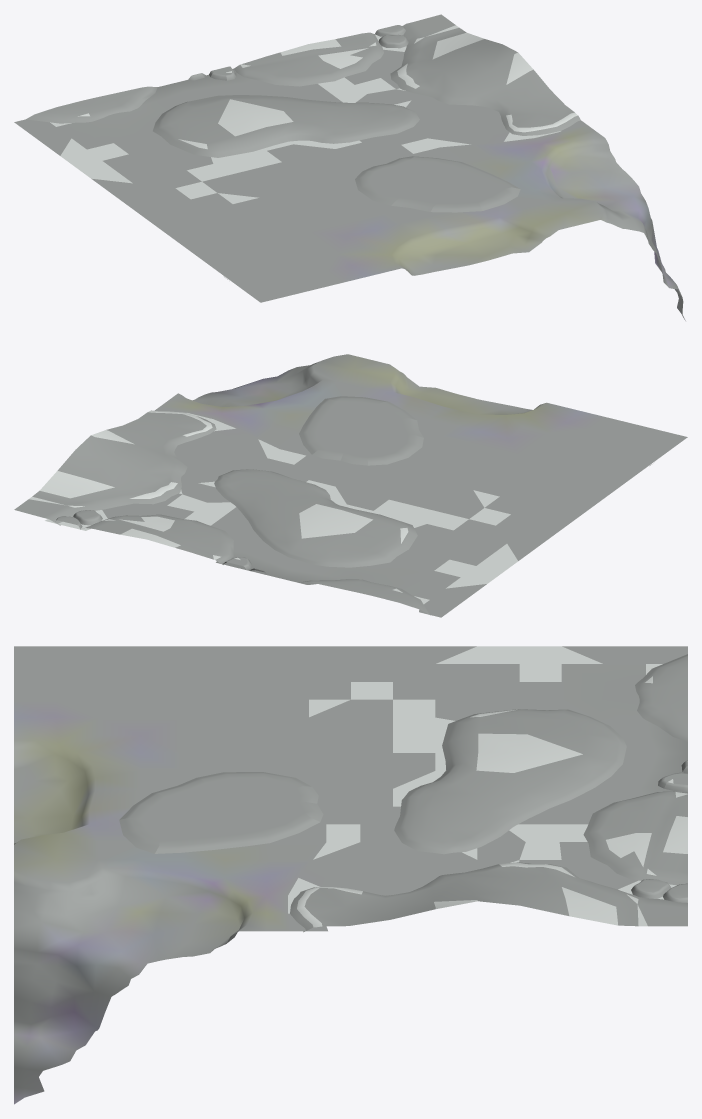
3 views of the same model, one above another, from view 1: azimuth 30°, elevation 25°; view 2: azimuth 150°, elevation 25°; view 3: azimuth 270°, elevation 25° (orthographic). The views are drawn at different scales.
Parts seen in each view (by area): view 1: G:\FFXIV-MapTools\exports\y6f2\bg\ex5\02_ykt_y6\fld\y6f2\bgp (×11); view 2: G:\FFXIV-MapTools\exports\y6f2\bg\ex5\02_ykt_y6\fld\y6f2\bgp (×11); view 3: G:\FFXIV-MapTools\exports\y6f2\bg\ex5\02_ykt_y6\fld\y6f2\bgp (×12).
Boxes of the visible parts, <box> form: G:\FFXIV-MapTools\exports\y6f2\bg\ex5\02_ykt_y6\fld\y6f2\bgp (×11): <box>14,14,685,320</box>; G:\FFXIV-MapTools\exports\y6f2\bg\ex5\02_ykt_y6\fld\y6f2\bgp (×11): <box>14,354,687,617</box>; G:\FFXIV-MapTools\exports\y6f2\bg\ex5\02_ykt_y6\fld\y6f2\bgp (×12): <box>14,646,687,1104</box>.
Size of the model in its own units: 128 by 42.62 by 128.
